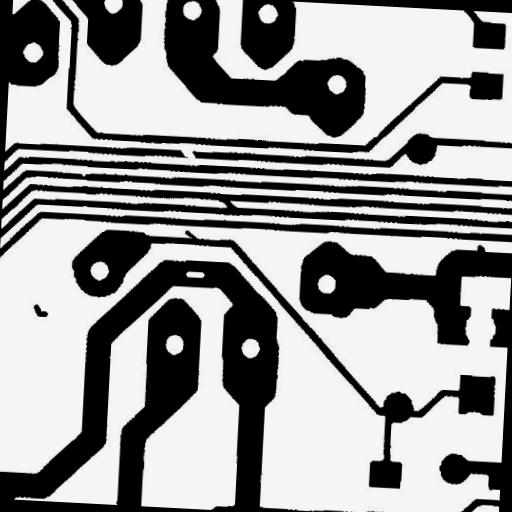copper: (25, 296, 56, 325)
open: (173, 140, 204, 168)
pin-hole: (178, 263, 212, 286)
short: (208, 188, 246, 220)
spur: (176, 222, 206, 248), (468, 236, 493, 262)
